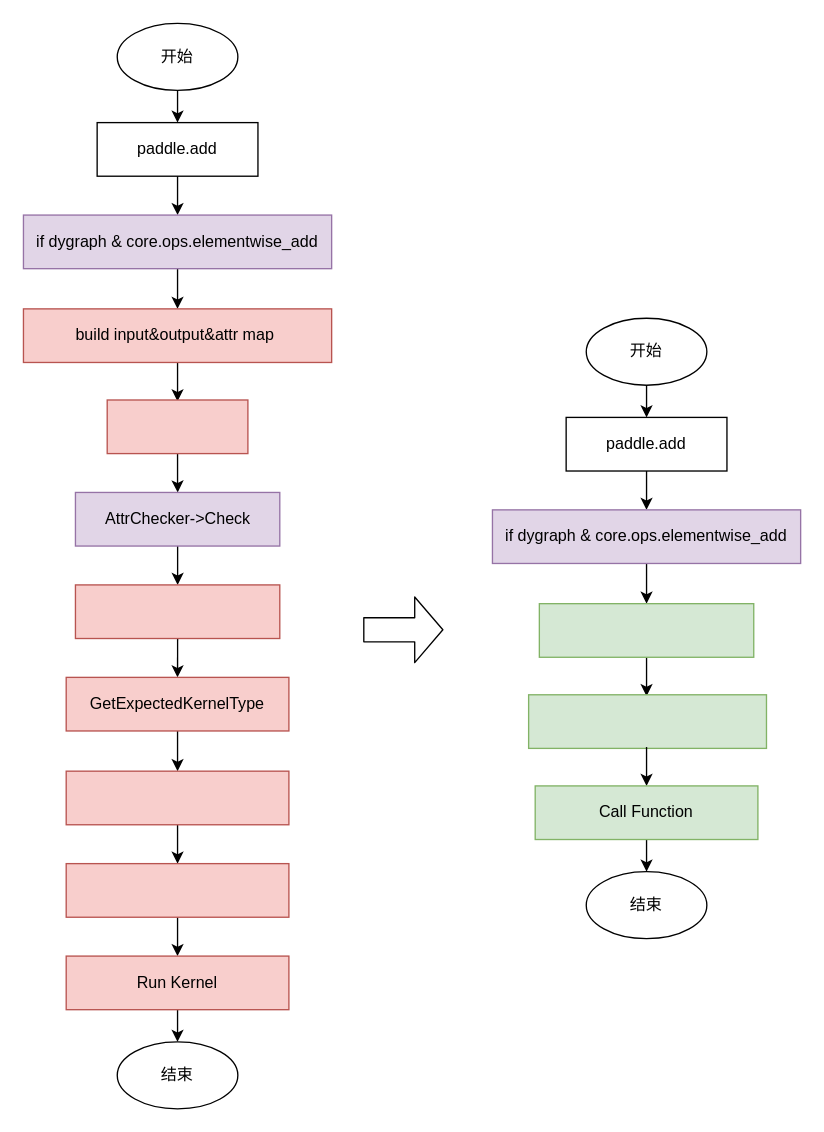
Some shapes in this 824 by 1132 pixel diagram are drawn without their labels. The shapes that lost their labels are listed below. From the top down, each one's centre as x and y in pixels, then its label:
At [177,426]: "CreateOp".
At [177,611]: "InferVarType".
At [646,629]: "Switch Device".
At [646,720]: "Dispatch DataType".
At [177,797]: "Find Kernel".
At [177,889]: "InferShape".
